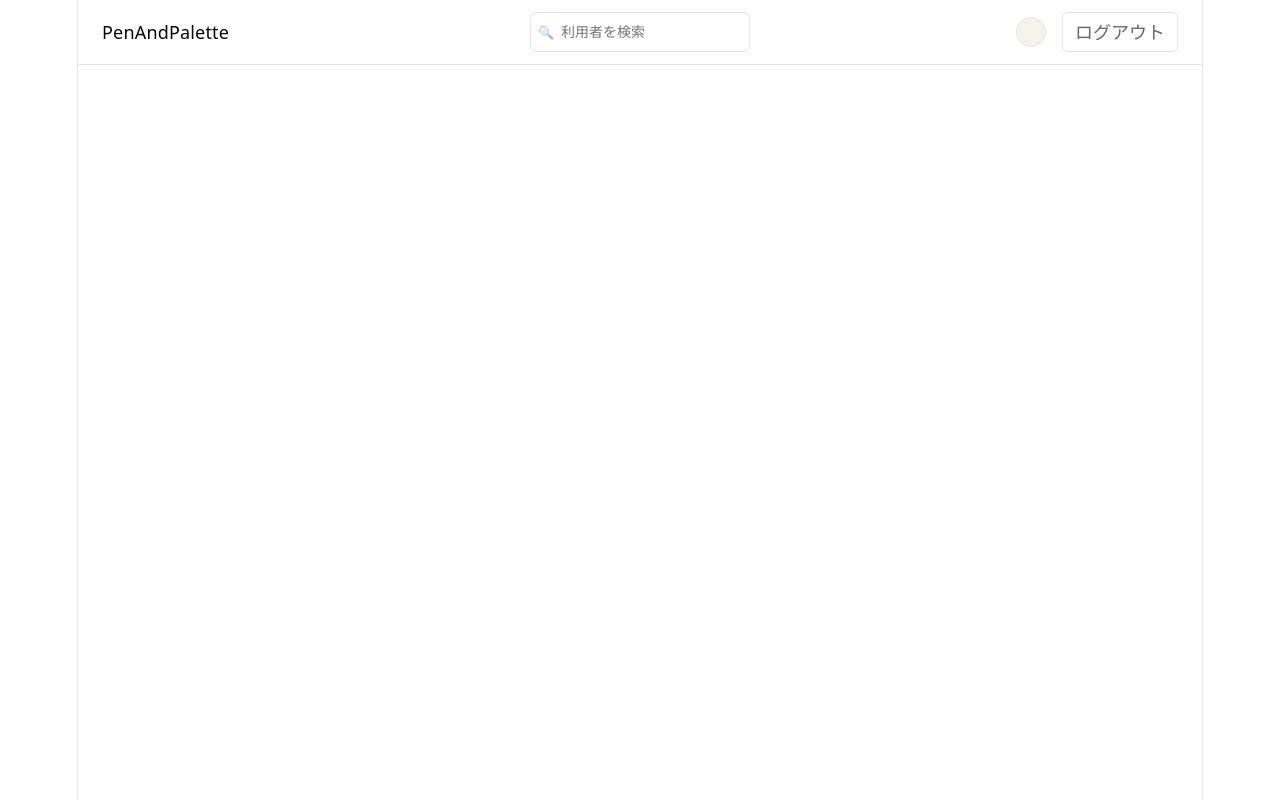
Test case: AppHeader › 検索入力欄で実行すると入力欄の直下に候補が一覧表示され、選ぶとプロフィールへ遷移する
The image size is (1280, 800).
Type "次郎" into the search field with test id "header-search-input".
click(640, 32); type("次郎")  # box top-left (530, 12), bottom-right (750, 52)
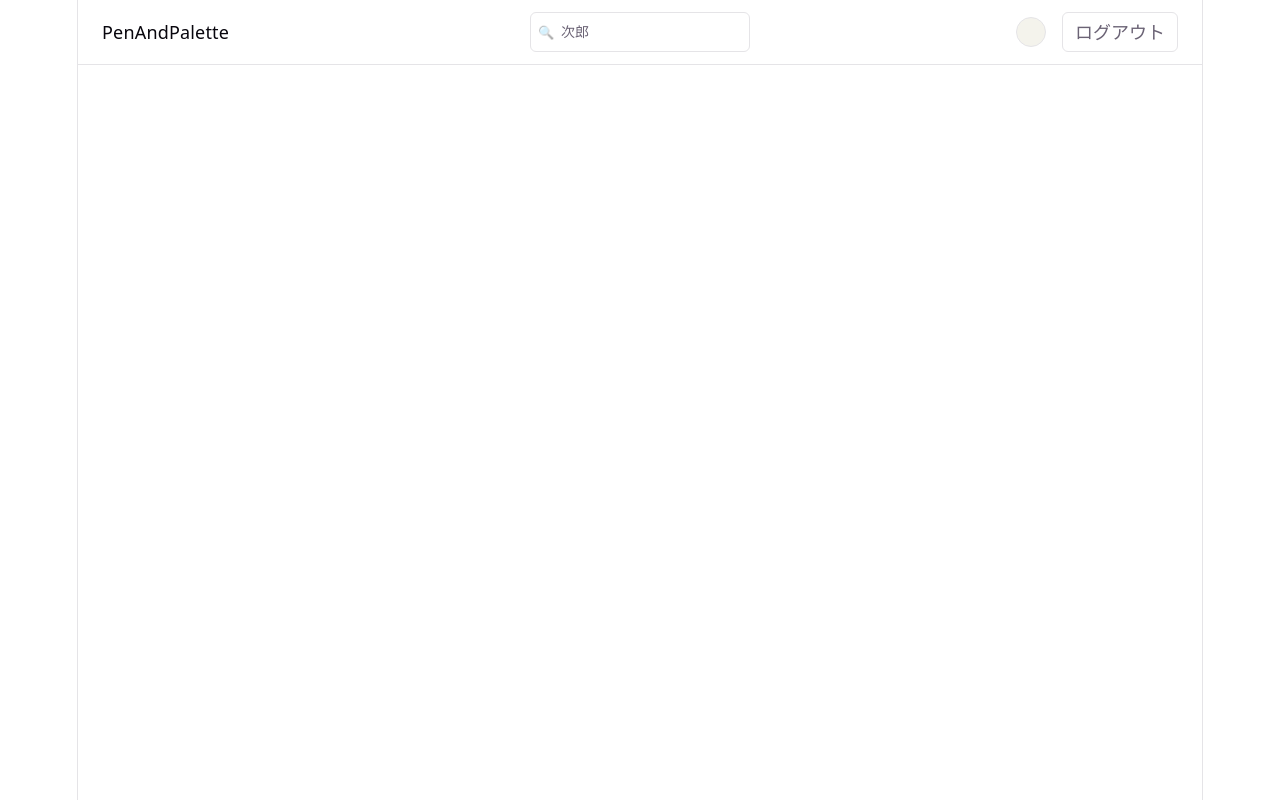
Click the button with test id "header-search-submit".
click(546, 32)  # box top-left (534, 20), bottom-right (558, 44)
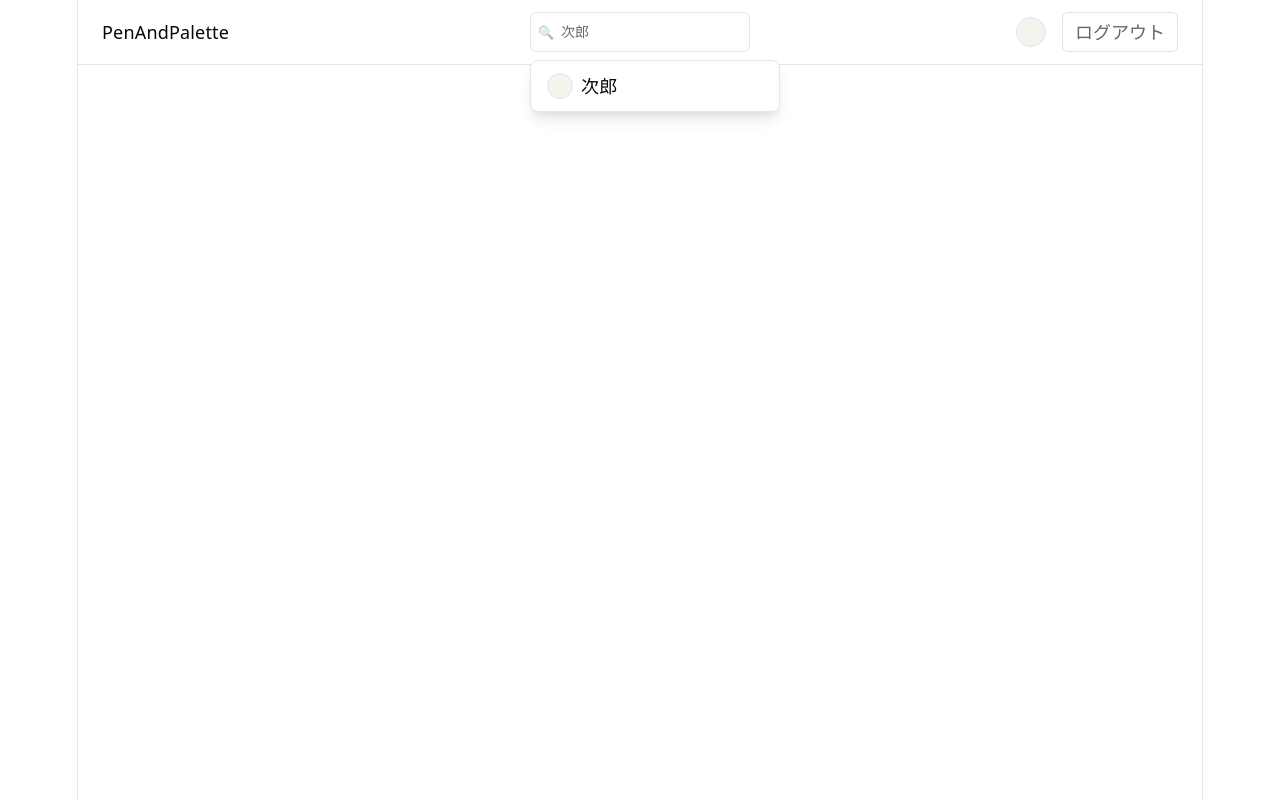
Result: the link with test id "header-search-item-2" reads "次郎"
Click the link with test id "header-search-item-2".
click(582, 86)  # box top-left (547, 73), bottom-right (617, 99)
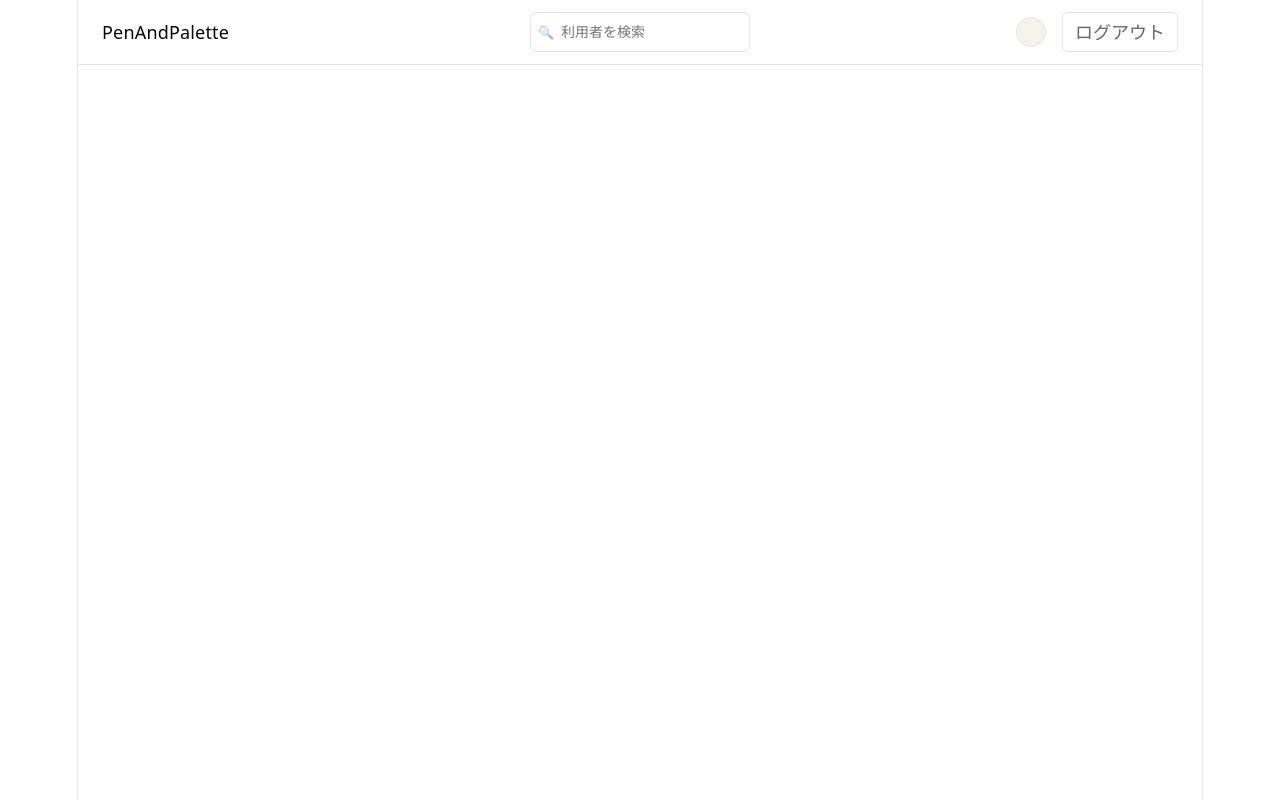
Result: the element with test id "header-search-dropdown" is gone
Result: the search field with test id "header-search-input" is empty at top-left (530, 12), bottom-right (750, 52)
